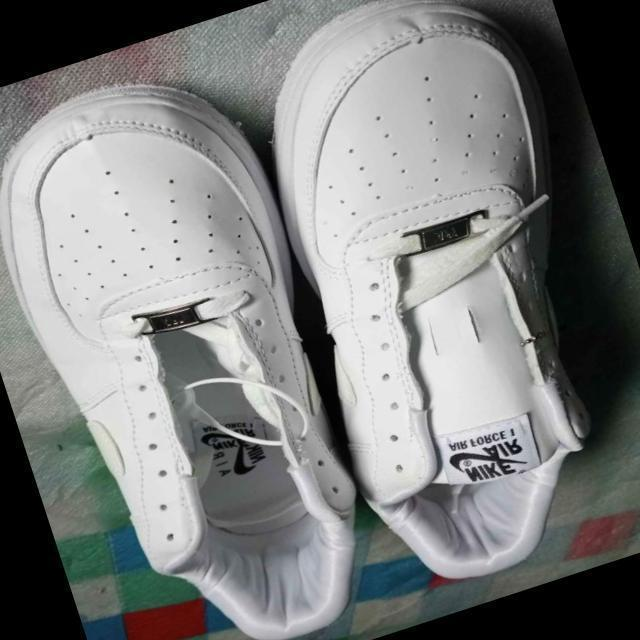nike fake air force: (209, 0, 640, 609), (0, 43, 408, 640), (266, 136, 640, 620)
